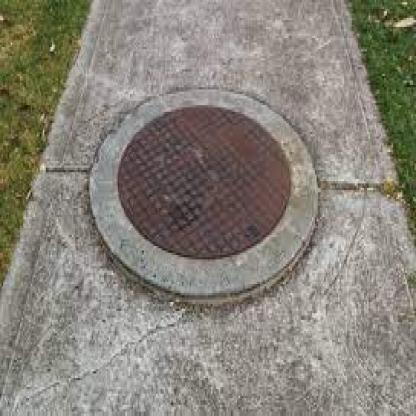closed manhole-not overflowing-: (89, 87, 326, 301)
